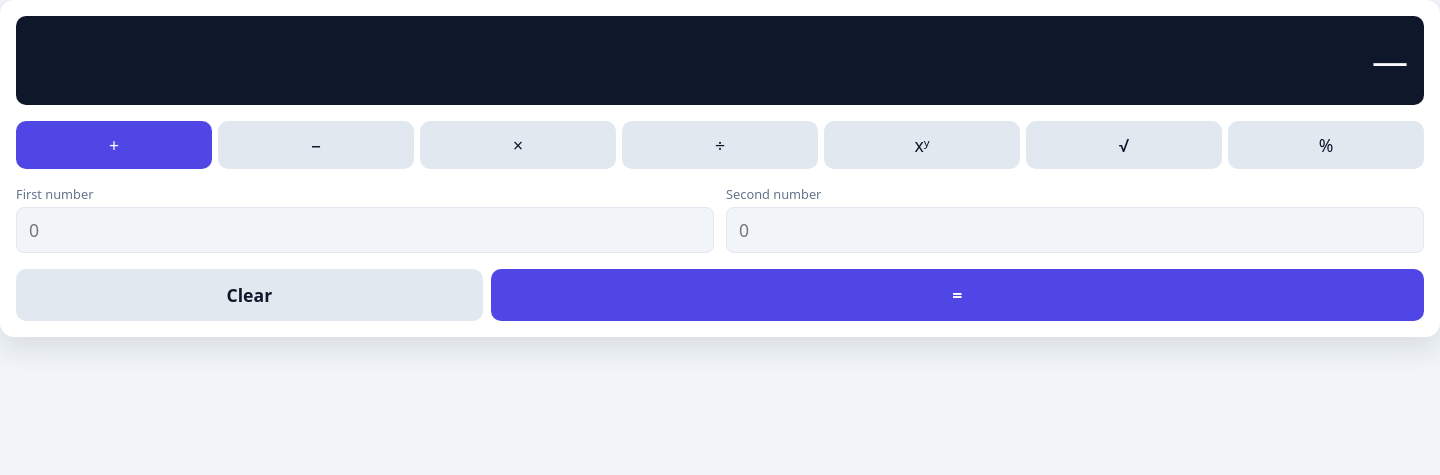
Test: Calculator › calculates and shows the result and history
This screenshot has width=1440, height=475.
Step 1. Type "2" into the field labelled "First number" → [365, 230], box [16,207,714,253]
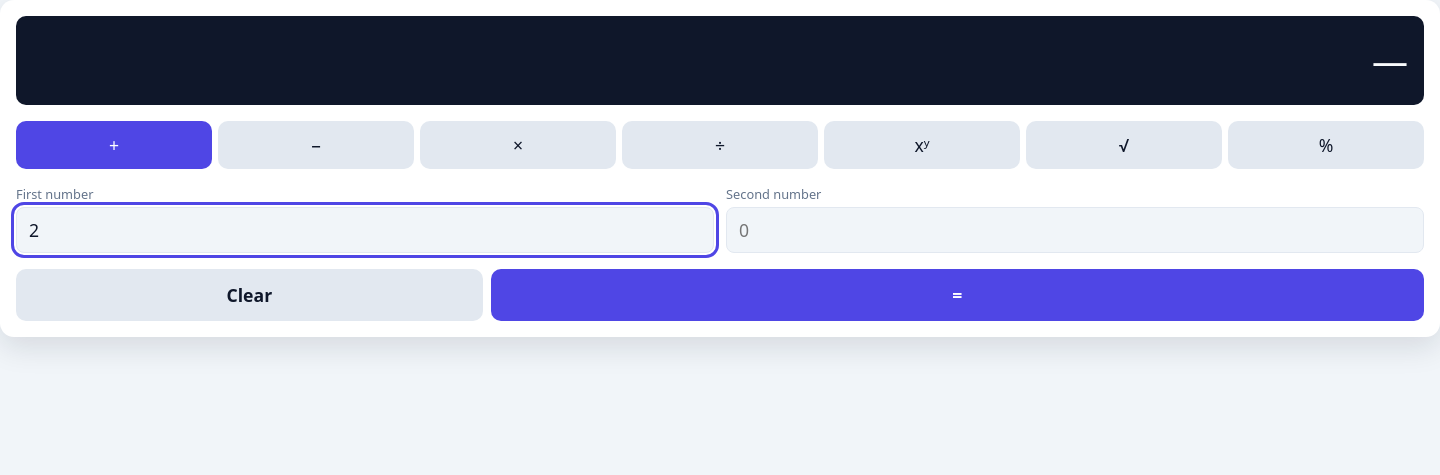
Step 2. Type "3" into the field labelled "Second number" → [1075, 230], box [726,207,1424,253]
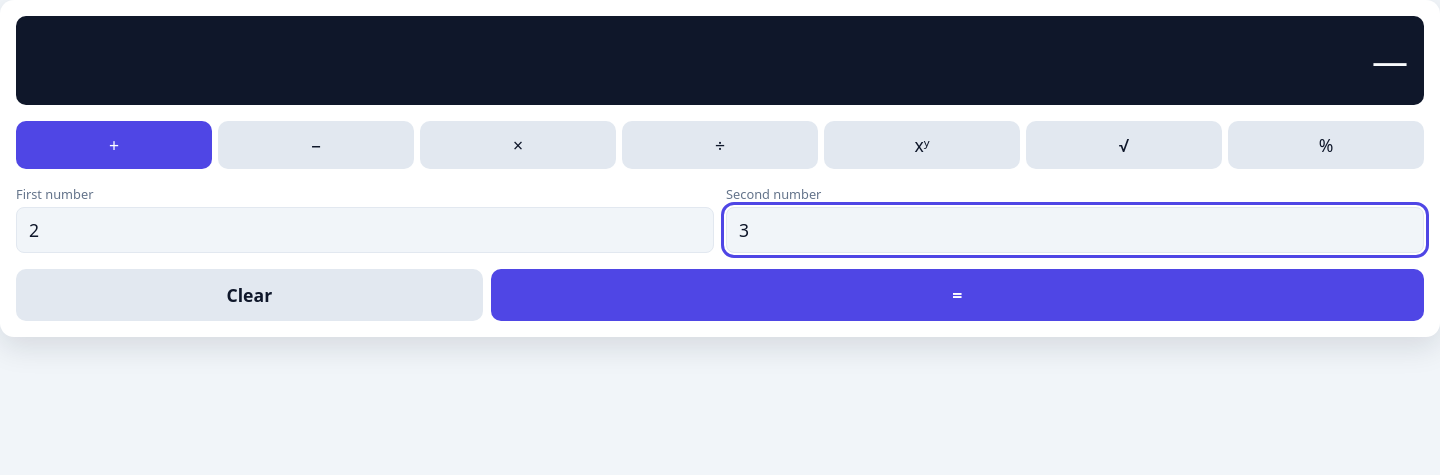
Step 3. Click the button "=" → [957, 295], box [491,269,1424,321]
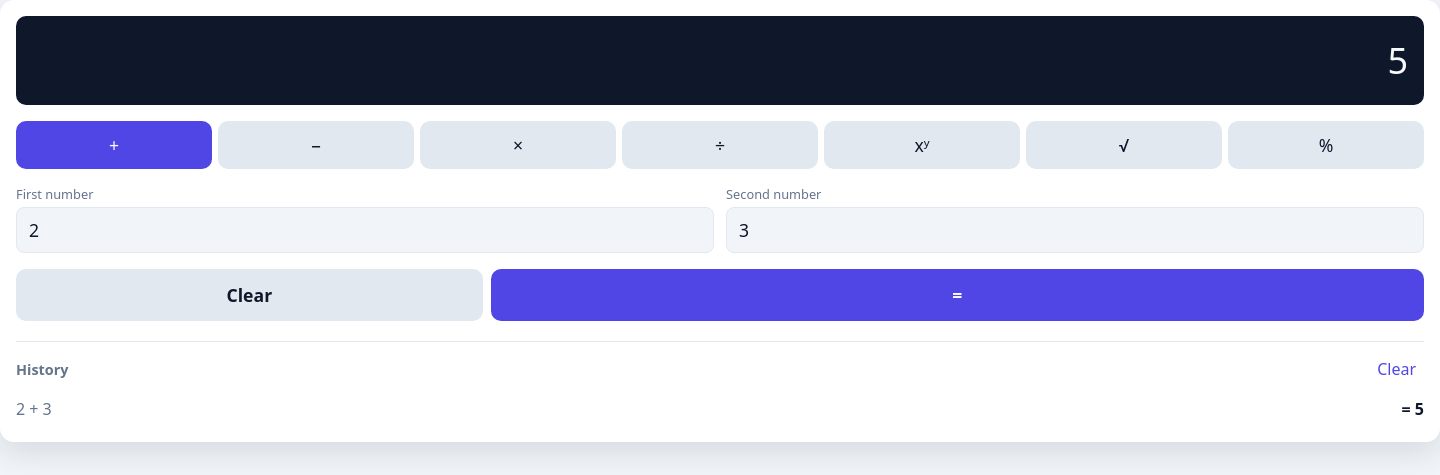
Expected: the text with test id "result" reads "5", [1387,36,1408,85]
Expected: the text "2 + 3" is shown, [16,398,52,420]
Expected: the text "= 5" is shown, [1402,398,1424,420]
